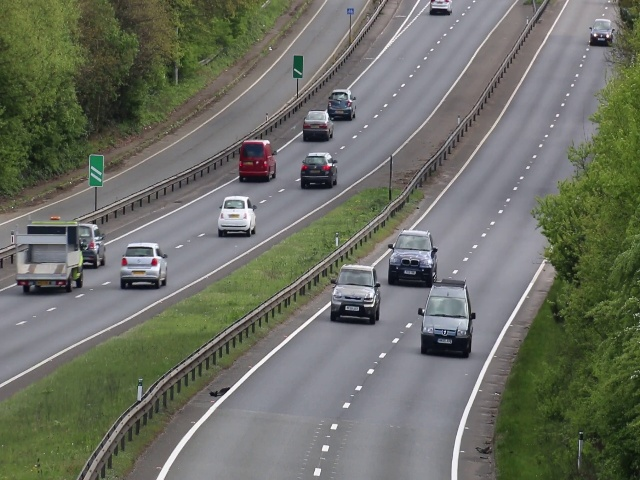car: (15, 220, 84, 296), (421, 281, 474, 358), (332, 261, 382, 326), (387, 229, 437, 287), (119, 238, 170, 290), (216, 194, 258, 238), (237, 140, 277, 183), (301, 152, 339, 188), (326, 86, 358, 121), (80, 225, 108, 263), (302, 110, 334, 141), (590, 16, 613, 45), (429, 1, 453, 15)
